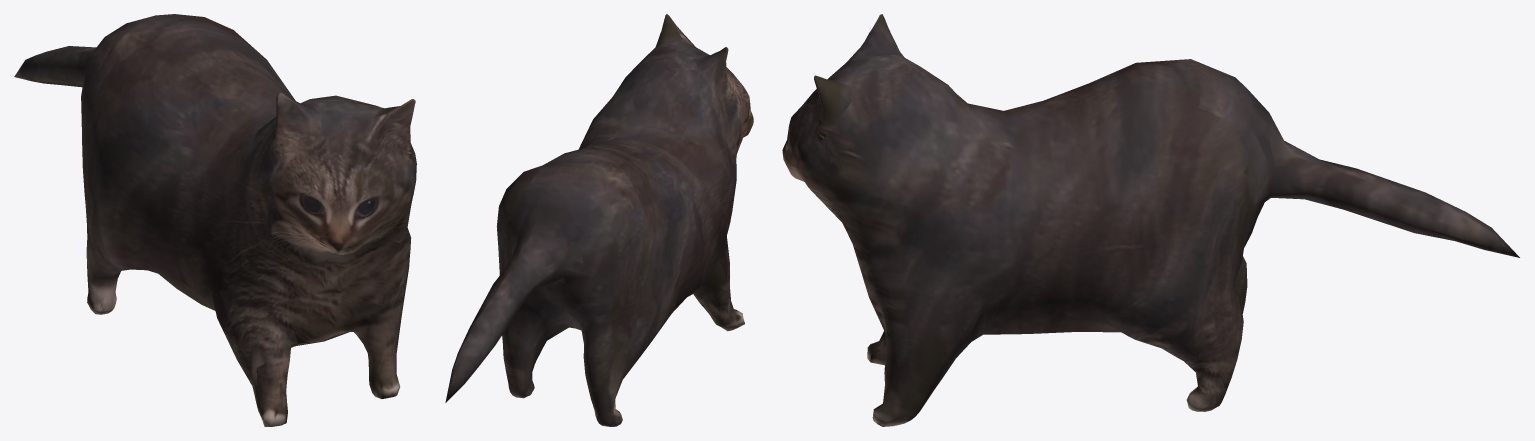
File: Cat_retopo.fbx
3 renders of one model, left to right at view 1: azimuth 30°, elevation 25°; view 2: azimuth 150°, elevation 25°; view 3: azimuth 270°, elevation 25°, orthographic. The views are drawn at different scales.
Parts seen in each view (by area): view 1: Cat_LOD0; view 2: Cat_LOD0; view 3: Cat_LOD0.
Part boxes in pixels (x1,y1,x2,y2): Cat_LOD0: (14, 14, 416, 426); Cat_LOD0: (445, 14, 753, 426); Cat_LOD0: (782, 14, 1519, 426).
Size of what is drawn, in the model's own units: 23.47 by 38.35 by 72.69.
Materials: 1 (1 with a texture image).
